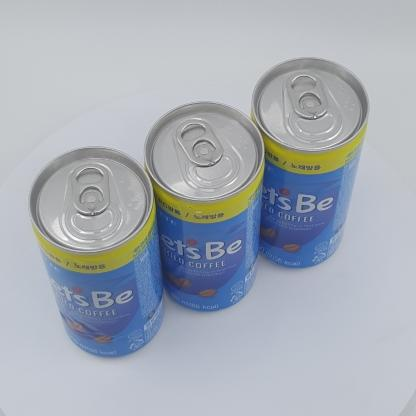------190ml: (28, 145, 165, 358), (143, 101, 265, 312), (250, 56, 370, 269)
